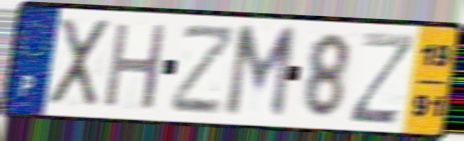8: (302, 31, 356, 121)
H: (100, 19, 171, 113)
M: (221, 24, 300, 123)
X: (47, 16, 112, 109)
Z: (347, 29, 420, 127), (169, 23, 240, 116)
